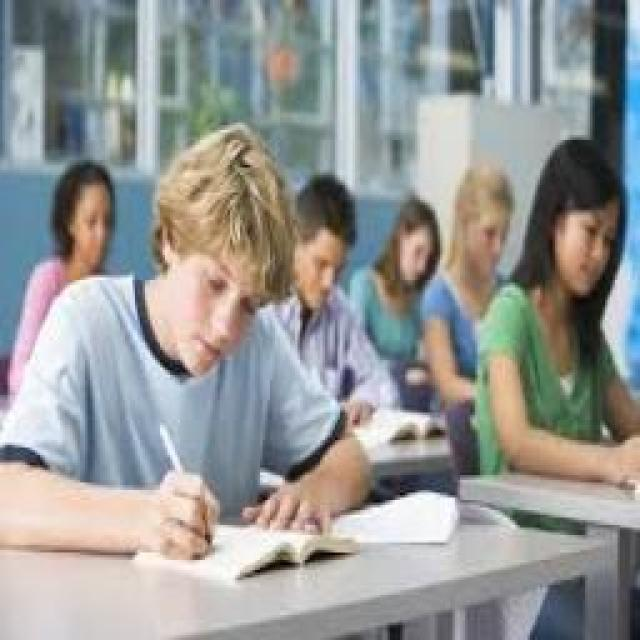study: (0, 127, 362, 567), (472, 117, 640, 485)
